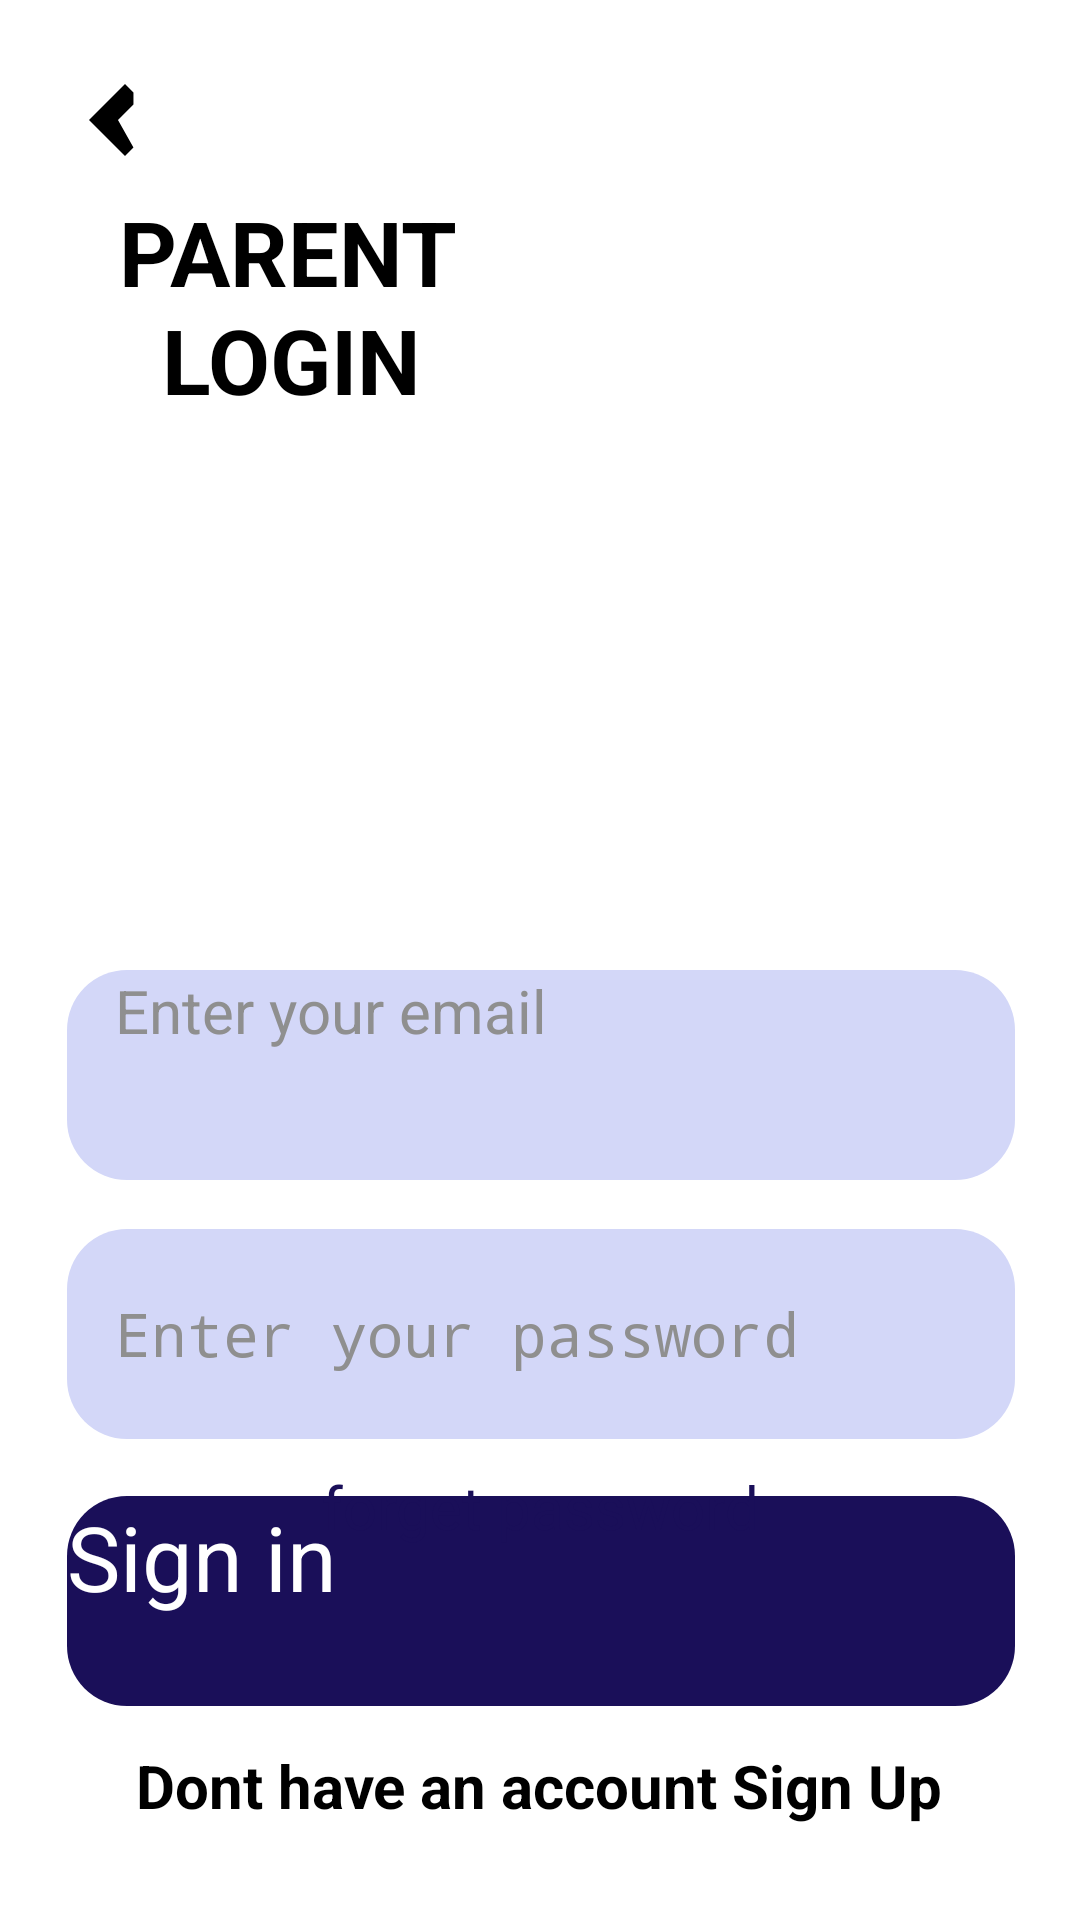

Point at icon controls on the screen. Image size 1080x1920, points as (x,y).
back: (111,120)
